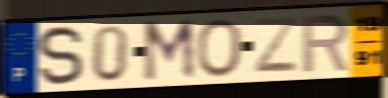0: (89, 23, 131, 83)
M: (141, 16, 198, 85)
O: (194, 17, 245, 80)
R: (301, 13, 352, 75)
S: (35, 23, 86, 89)
Z: (253, 15, 300, 75)
